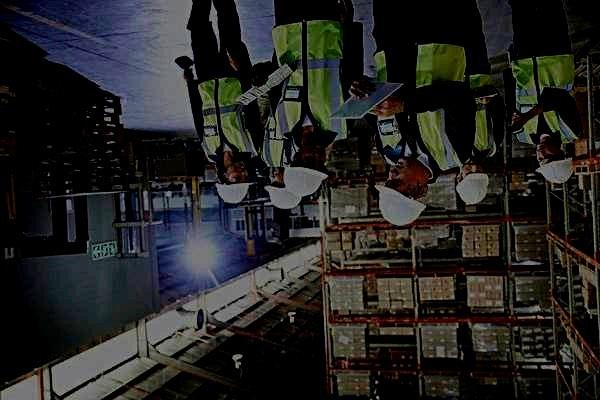helmet: (374, 158, 431, 226), (282, 149, 328, 197), (213, 162, 255, 204), (263, 167, 303, 209), (535, 142, 574, 184), (456, 160, 490, 205)
